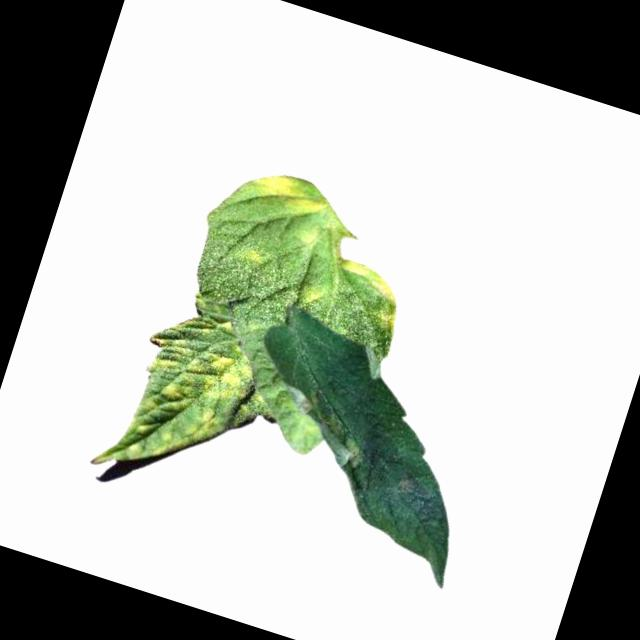Leaf_Mold: (111, 315, 262, 490), (270, 375, 382, 473), (325, 257, 409, 332), (247, 165, 328, 224), (238, 241, 271, 271), (296, 281, 322, 308)
